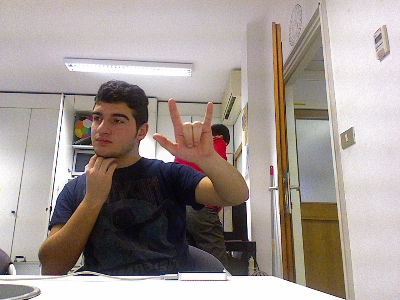我爱你: (150, 96, 215, 162)
